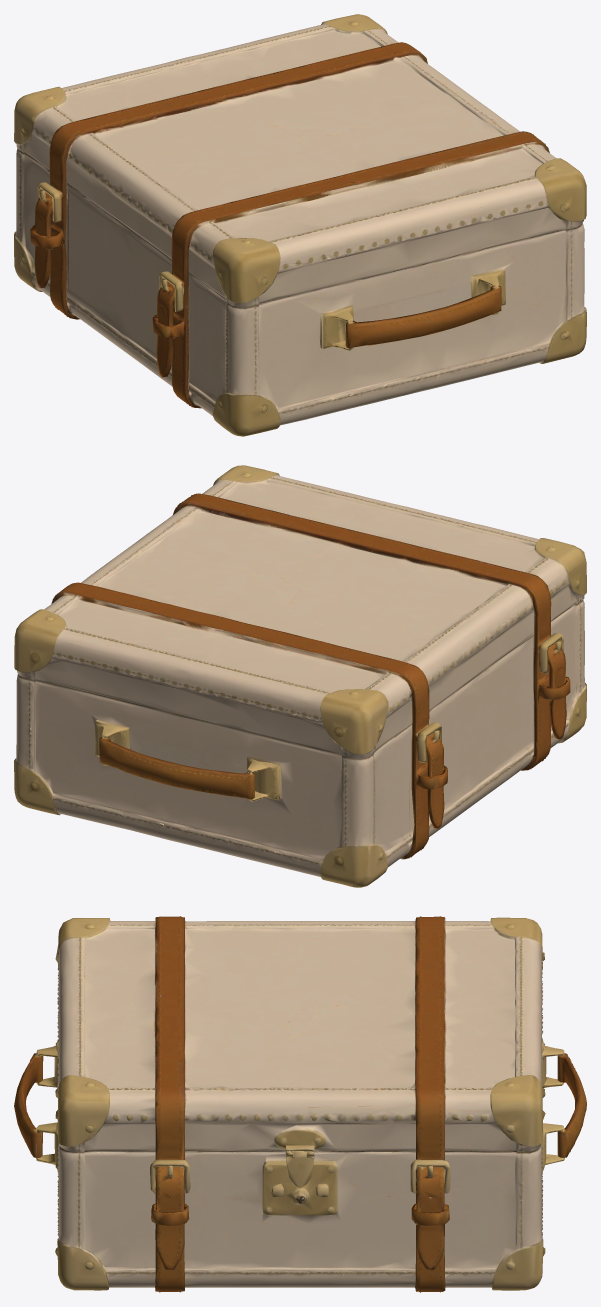
File: trunk-white.glb
The picture shows the model from 3 angles, top to bottom: view 1: azimuth 30°, elevation 25°; view 2: azimuth 150°, elevation 25°; view 3: azimuth 270°, elevation 25°; orthographic projection. The views are drawn at different scales.
Bounding box in the file's own units: 1.77 × 0.7782 × 2.
1 material, 1 textured.
